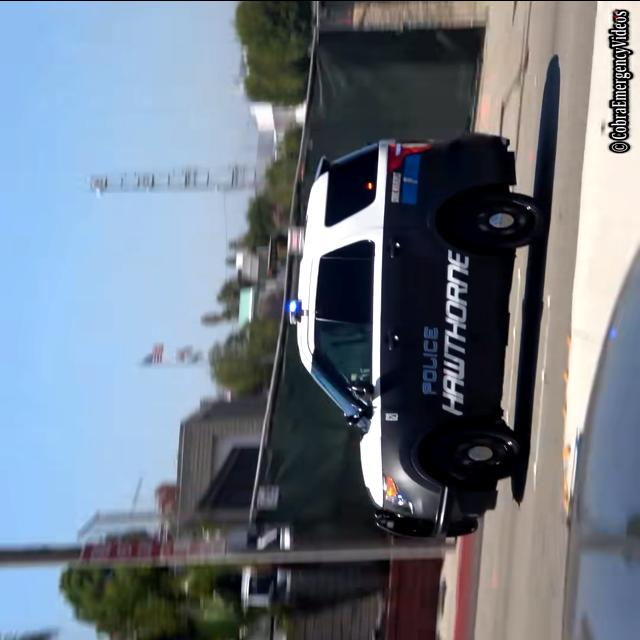emergency-vehicles: (276, 121, 572, 551)
